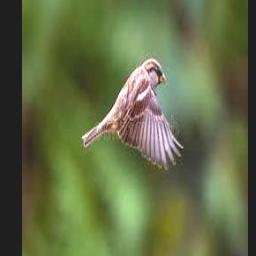Sparrow: (83, 57, 184, 170)
